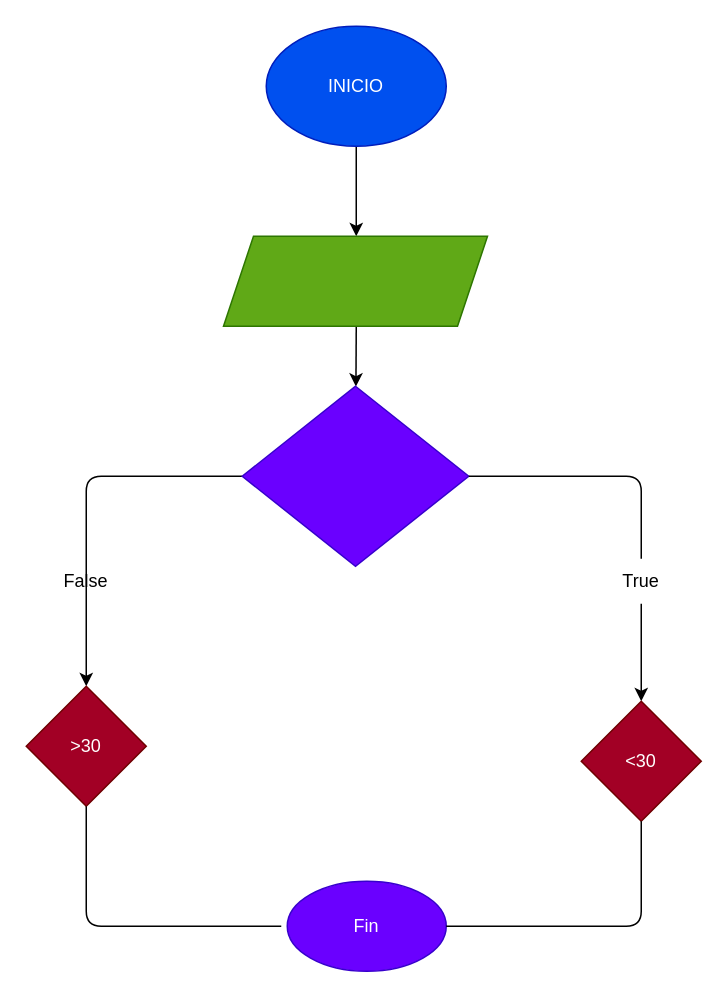
Image size: 728x998. Some labels were removed from this diagram. The centre of each missing label's shape, as x and y in pixels:
nota1+nota2+nota3 nota4+nota5 /5: (355,475)
se ingresan las 5 notas y el codigo del estudiante: (355,280)
